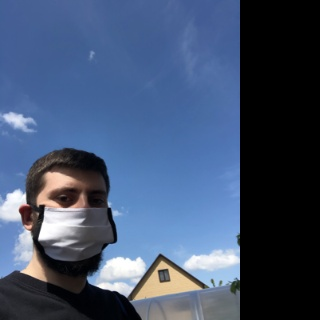with_mask: (38, 181, 116, 276)
